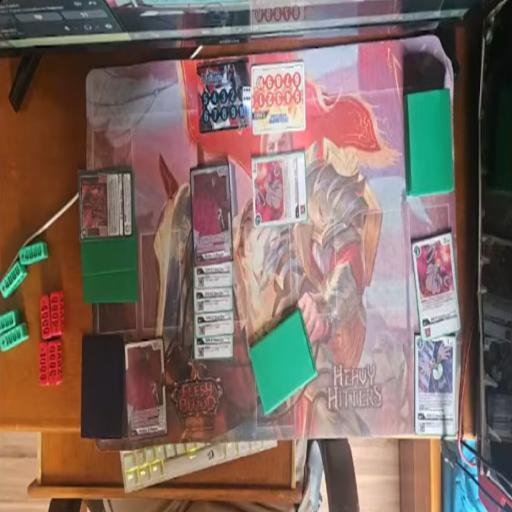card: (411, 230, 462, 332), (412, 330, 457, 440), (123, 338, 167, 442), (251, 148, 306, 231), (189, 164, 232, 270), (78, 168, 135, 244), (192, 257, 236, 291), (193, 307, 236, 336), (194, 286, 235, 316), (195, 334, 234, 360)
